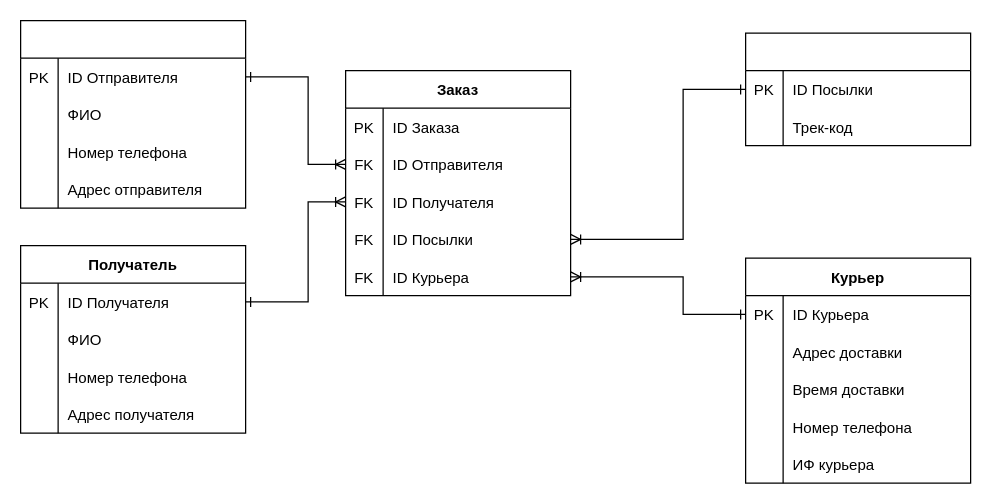
The diagram is 991 pixels wide and 504 high, and some of its shapes have lost their labels. The box of each missing label's shape, as (x1, y1, x2, y2) in pixels:
Отправитель: (19, 19, 246, 208)
Посылка: (744, 32, 971, 146)
